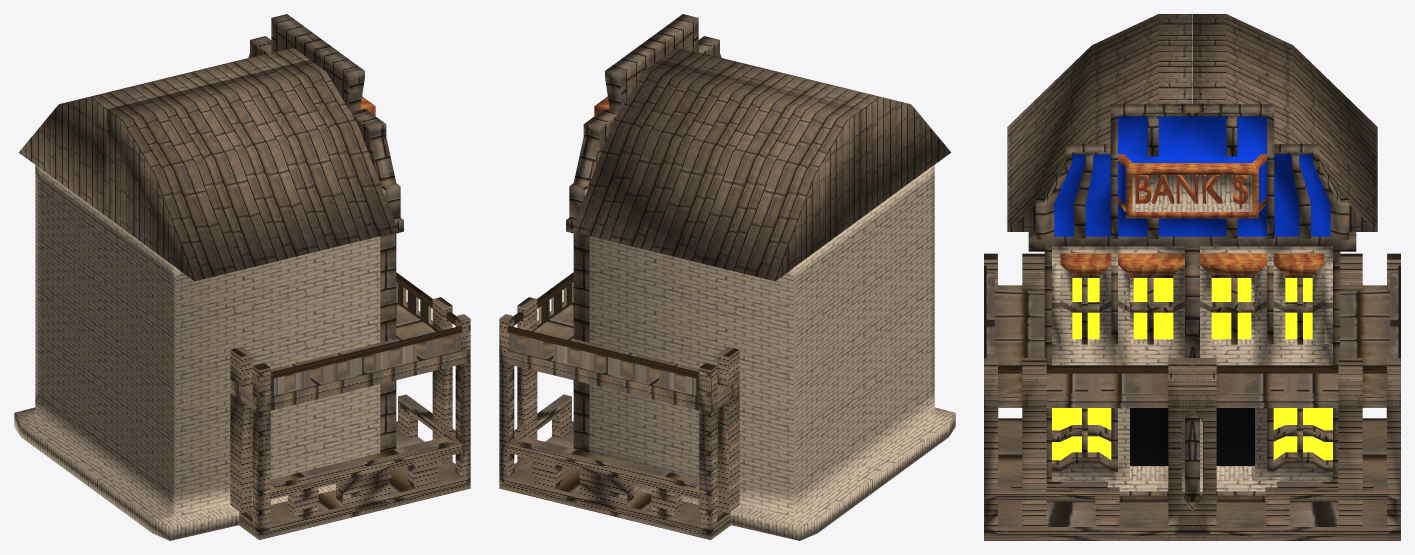
The model's file is Bank.glb.
3 views of the same model, side by side, from view 1: azimuth 30°, elevation 25°; view 2: azimuth 150°, elevation 25°; view 3: azimuth 270°, elevation 25° (orthographic). The views are drawn at different scales.
Parts seen in each view (by area): view 1: Cube, Cube.001, Cube.002, Cube.003; view 2: Cube, Cube.001, Cube.002, Cube.003; view 3: Cube, Cube.002, Cube.001, Cube.003, Text.
Part boxes in pixels (x1,y1,x2,y2): Cube: [14, 14, 403, 540]; Cube.001: [19, 48, 398, 281]; Cube.002: [230, 297, 470, 539]; Cube.003: [230, 272, 470, 412]; Cube: [566, 14, 955, 540]; Cube.001: [571, 48, 950, 281]; Cube.002: [499, 297, 739, 539]; Cube.003: [499, 272, 739, 412]; Cube: [1028, 104, 1356, 502]; Cube.002: [984, 253, 1400, 540]; Cube.001: [1007, 14, 1377, 231]; Cube.003: [984, 265, 1400, 407]; Text: [1135, 175, 1248, 208].
Bounding box in the file's own units: 7.7 × 9.9 × 9.24.
Materials: 7 (4 with a texture image).
